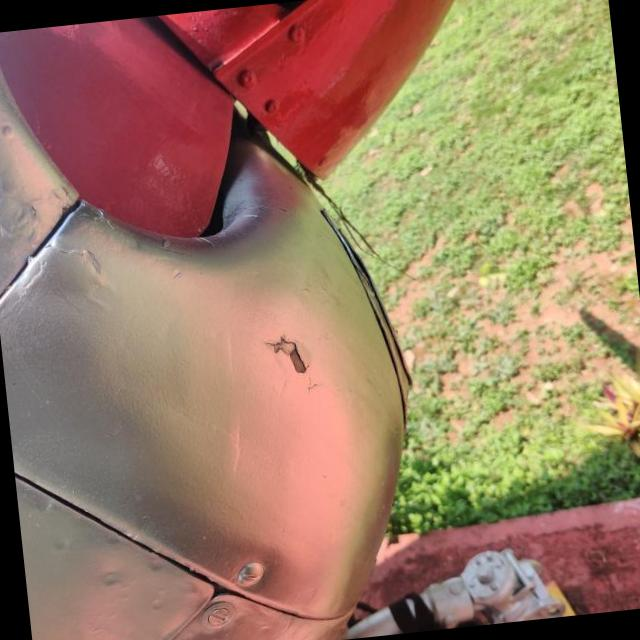Paint-off: (266, 336, 307, 373)
